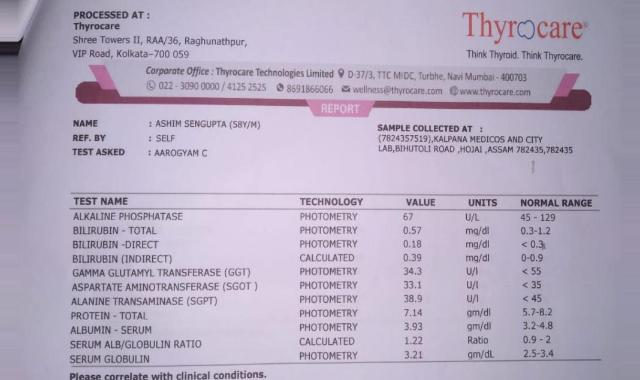Name: (155, 117, 264, 130)
Ref_By: (152, 133, 179, 142)
Reference_Range: (517, 211, 564, 362)
Technology: (295, 208, 365, 363)
Test_Asked: (151, 146, 213, 159)
Test_Name: (69, 205, 268, 369)
Unit: (461, 209, 503, 362)
Value: (398, 210, 431, 364)
